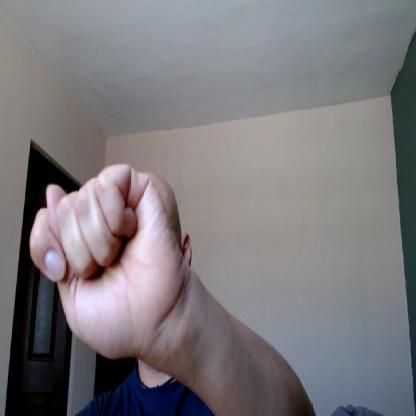T: (27, 164, 171, 358)
